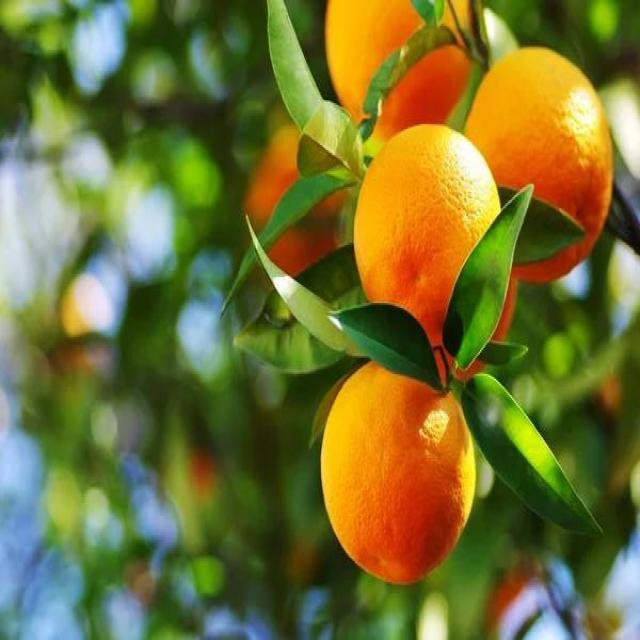Jeruk Sudah Matang: (309, 361, 475, 587), (460, 47, 618, 277), (353, 124, 502, 350)
